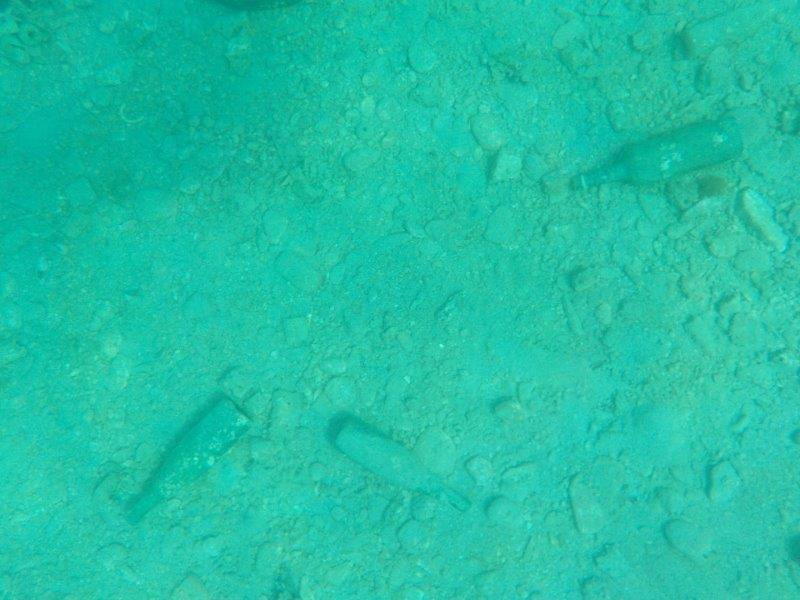bottle: (120, 393, 256, 530), (564, 113, 750, 205), (330, 414, 478, 517), (674, 1, 786, 63)
